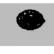correct: (14, 8, 46, 31)
